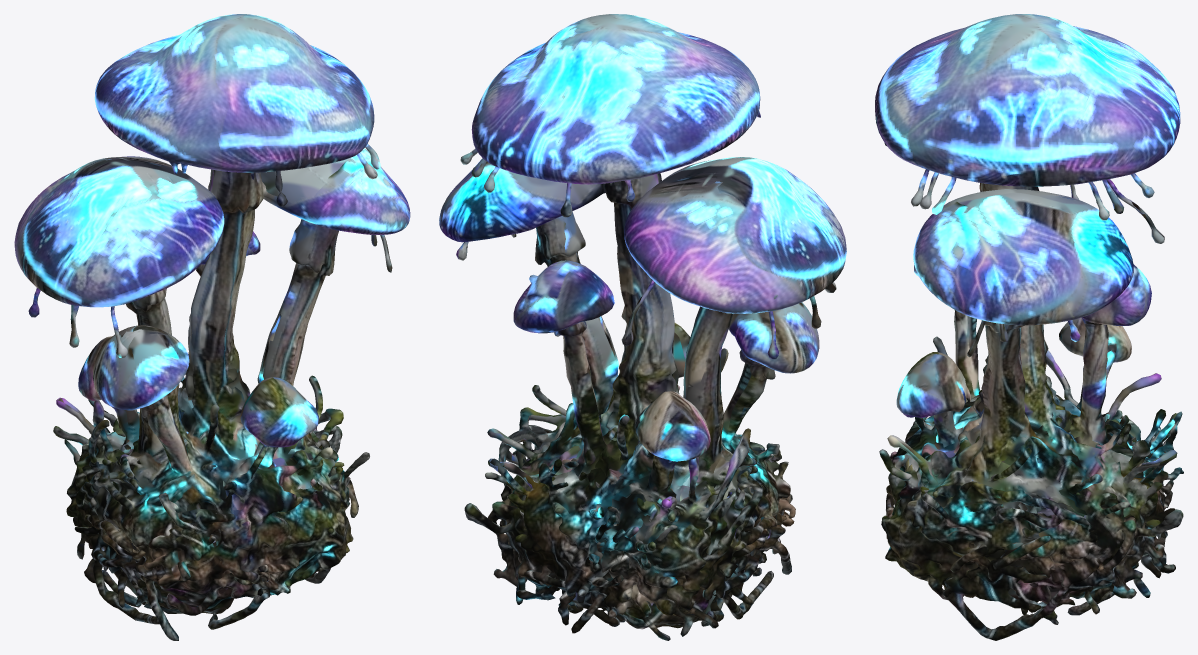
File: neon_mushroom_cluster.glb
The picture shows the model from 3 angles, left to right: view 1: azimuth 30°, elevation 25°; view 2: azimuth 150°, elevation 25°; view 3: azimuth 270°, elevation 25°; orthographic projection. The views are drawn at different scales.
Parts seen in each view (by area): view 1: geometry_0; view 2: geometry_0; view 3: geometry_0.
Boxes of the visible parts, bbox=[...] form: geometry_0: bbox=[14, 14, 410, 640]; geometry_0: bbox=[439, 14, 846, 640]; geometry_0: bbox=[875, 14, 1183, 640].
Size of the model in its own units: 1.6 by 2.4 by 1.15.
Materials: 1 (1 with a texture image).
